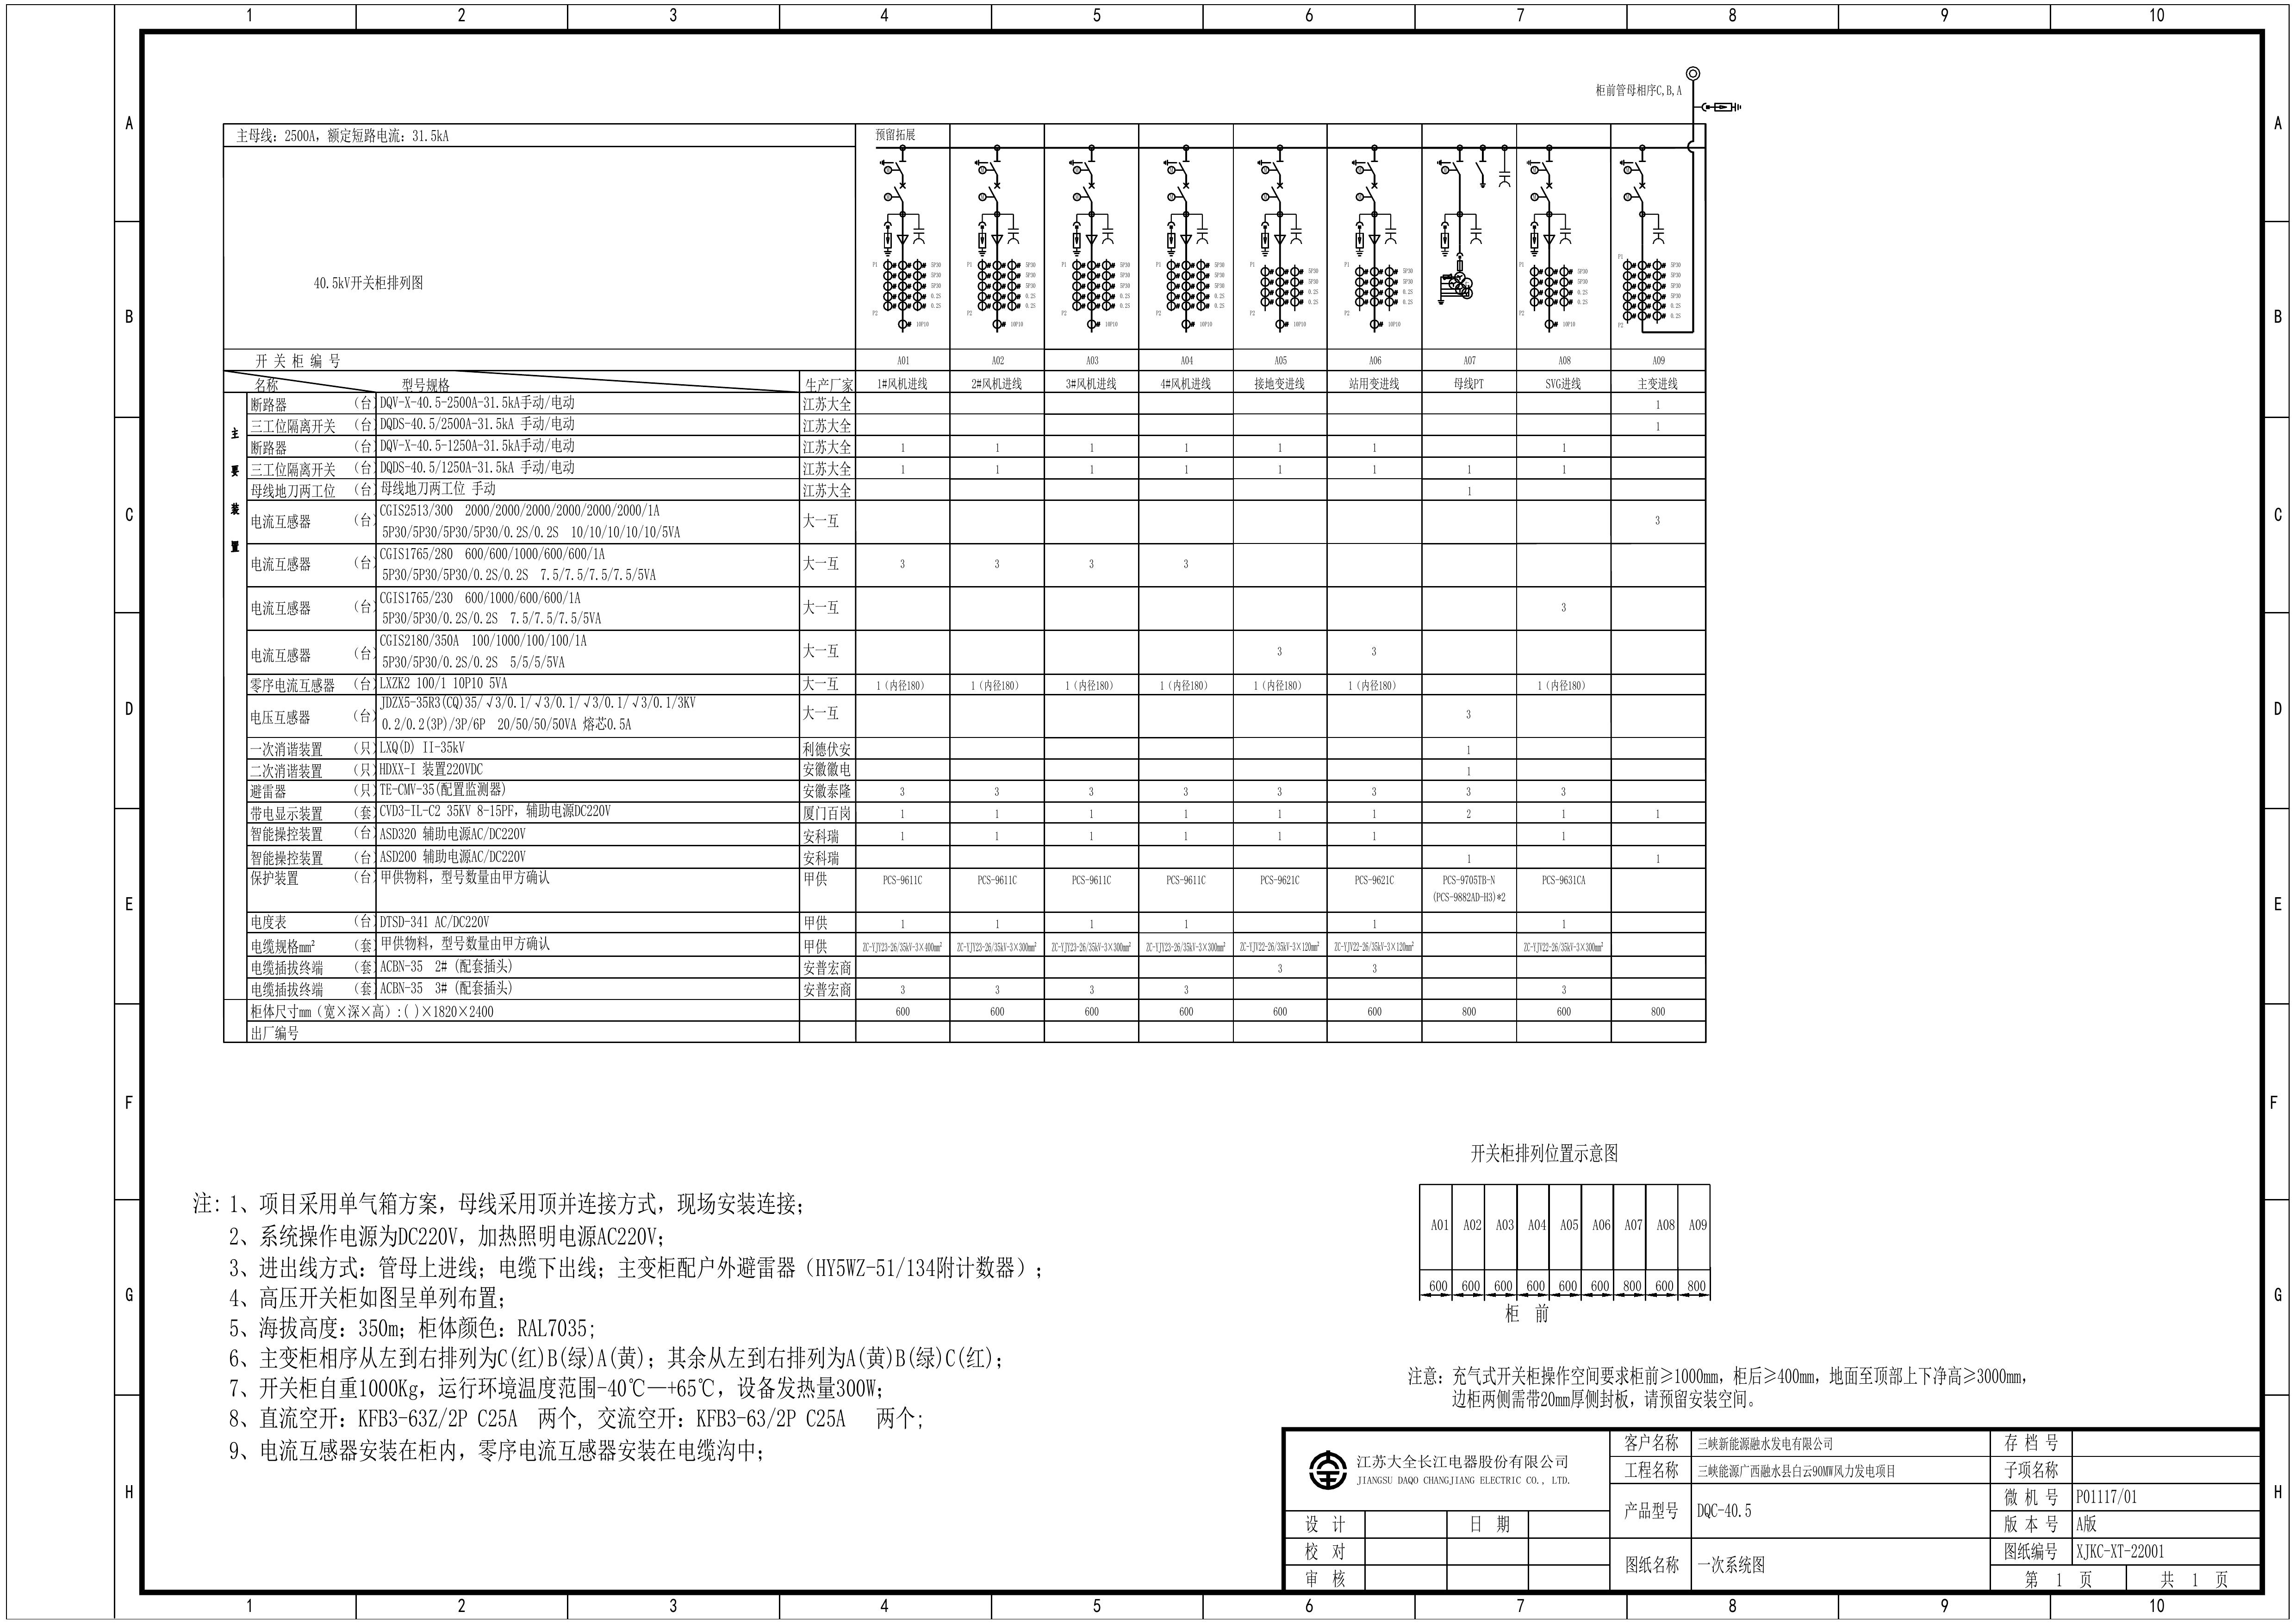diagram-EKfo: (1414, 134, 1520, 395), (1323, 141, 1426, 397), (848, 141, 950, 385), (1513, 125, 1604, 392), (1131, 137, 1231, 374), (1228, 148, 1328, 385), (1038, 132, 1131, 380), (1609, 144, 1700, 387), (954, 153, 1038, 378)
